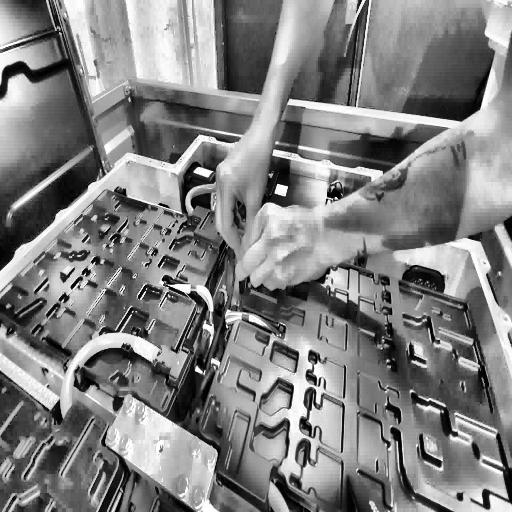high_volt_cable: (55, 326, 190, 429)
nut: (175, 472, 189, 496), (192, 486, 204, 506), (204, 444, 215, 464), (119, 436, 130, 454), (107, 424, 117, 441), (190, 441, 200, 457), (135, 401, 144, 417), (124, 395, 132, 409)
